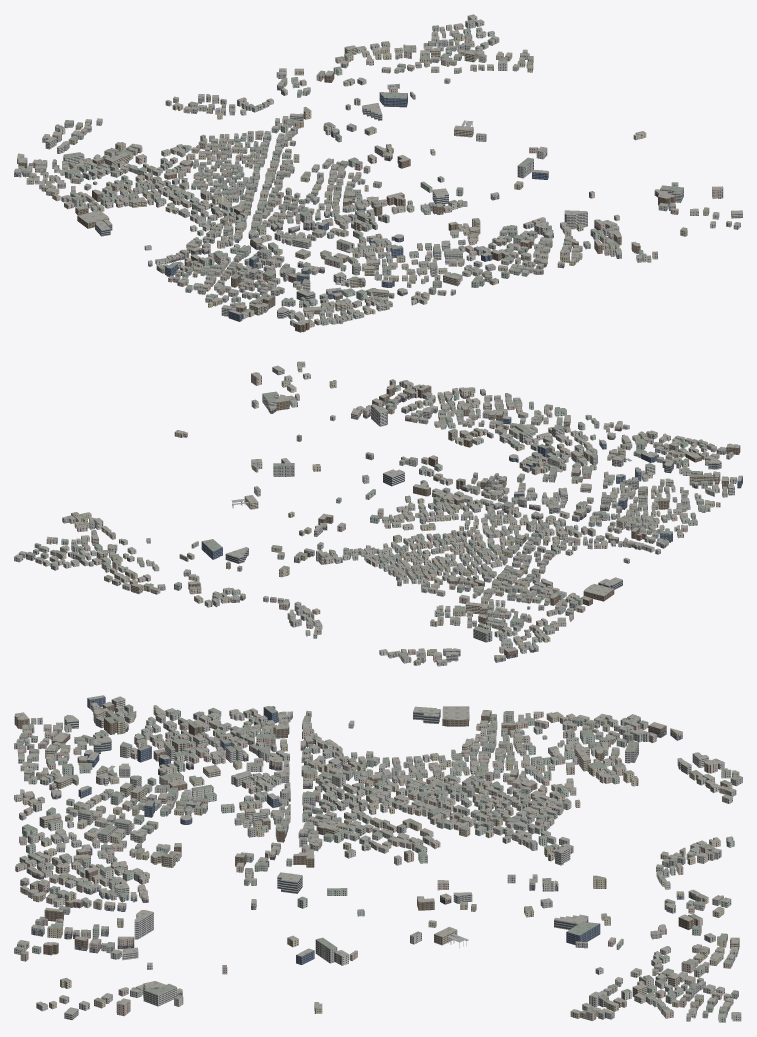
Rendered from ArahaTown_Block_E02048_S02048.gltf.
3 views of the same model, one above another, from view 1: azimuth 30°, elevation 25°; view 2: azimuth 150°, elevation 25°; view 3: azimuth 270°, elevation 25° (orthographic). The views are drawn at different scales.
Parts seen in each view (by area): view 1: ArahaTown_Block_E02048_S02048; view 2: ArahaTown_Block_E02048_S02048; view 3: ArahaTown_Block_E02048_S02048.
Boxes of the visible parts, bbox=[...] form: ArahaTown_Block_E02048_S02048: bbox=[14, 14, 742, 332]; ArahaTown_Block_E02048_S02048: bbox=[14, 361, 742, 666]; ArahaTown_Block_E02048_S02048: bbox=[14, 695, 742, 1022].
Size of the model in its own units: 1039 by 62.36 by 1039.
18 materials, 17 textured.
